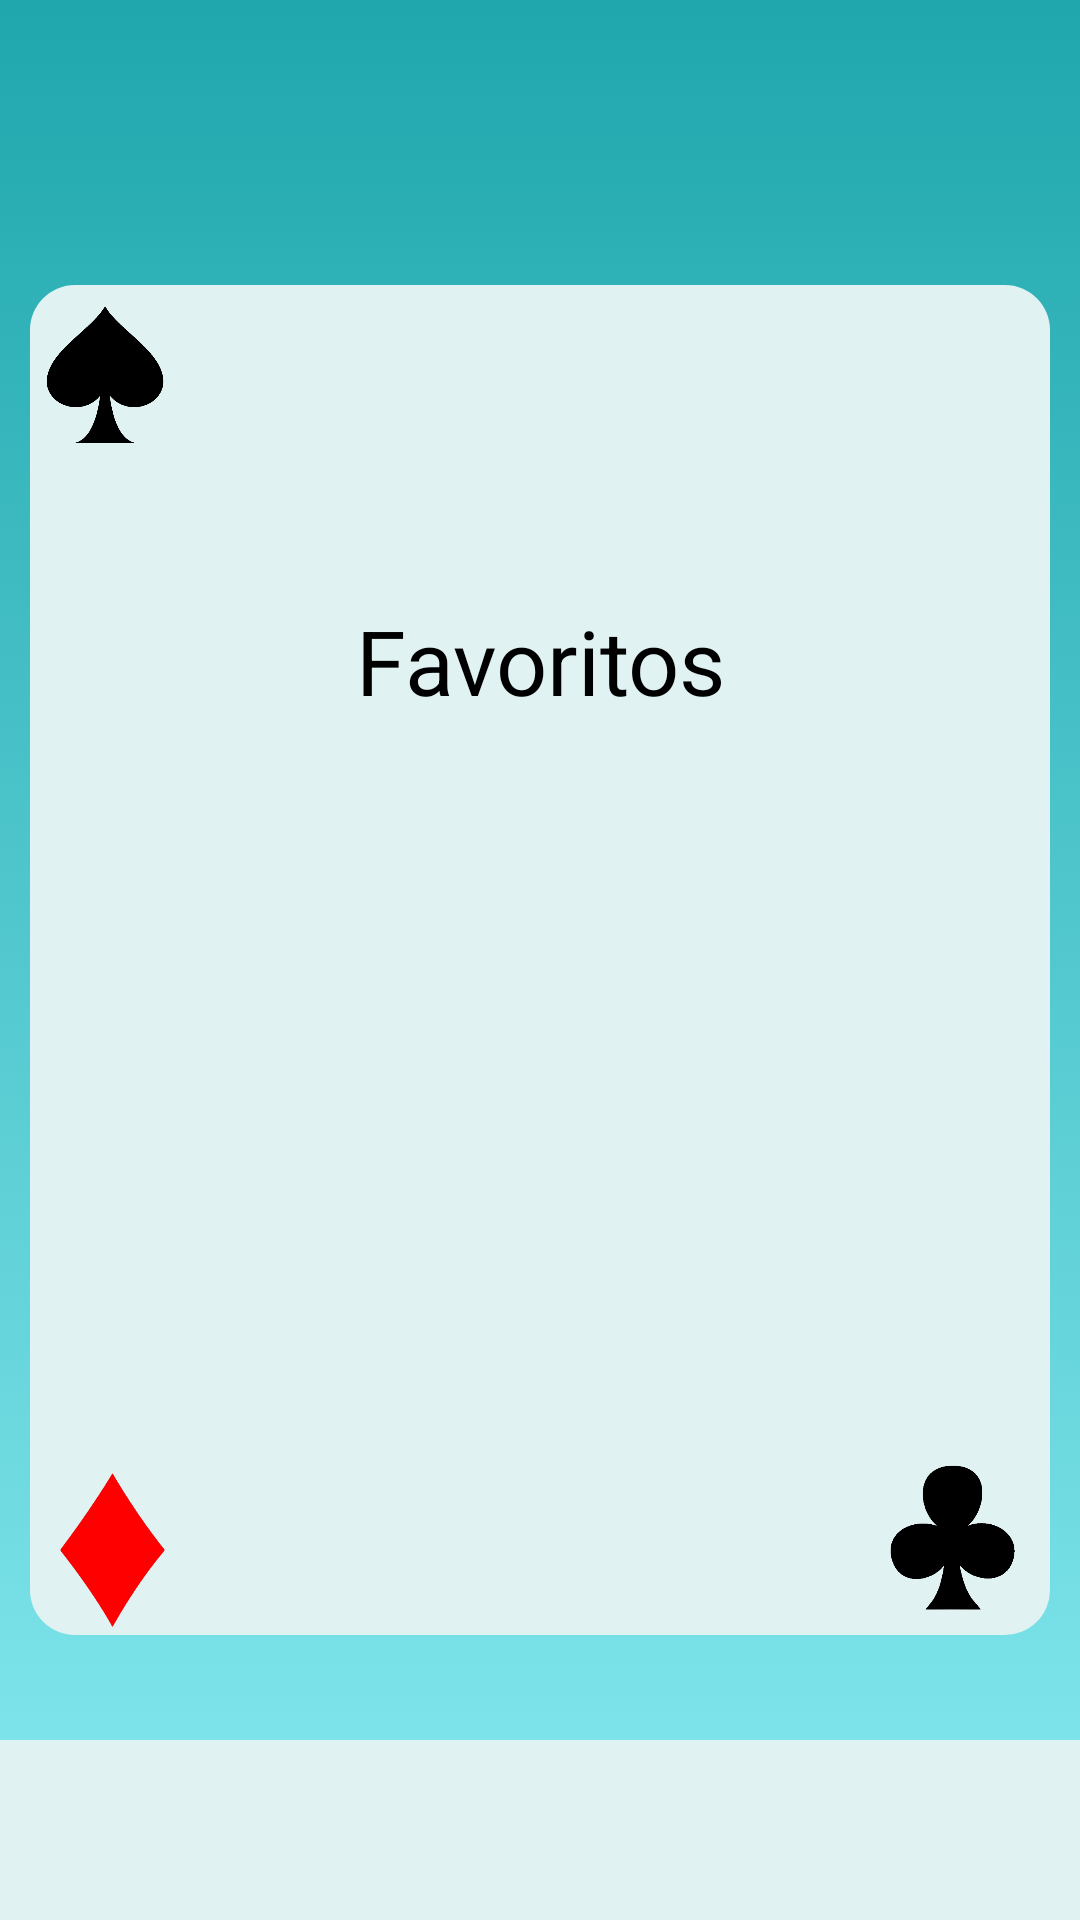

Icons on this 1080x1920 Android screen, each with the point to tap as (x=x, y=y):
clubs: (x=952, y=1537)
diamonds: (x=112, y=1552)
spades: (x=105, y=375)
